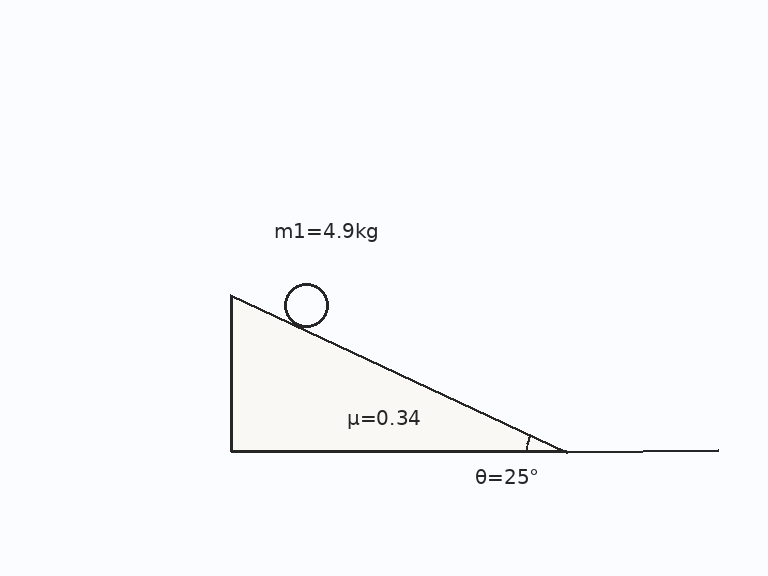ball: (282, 281, 330, 329)
ramp: (229, 292, 569, 453)
